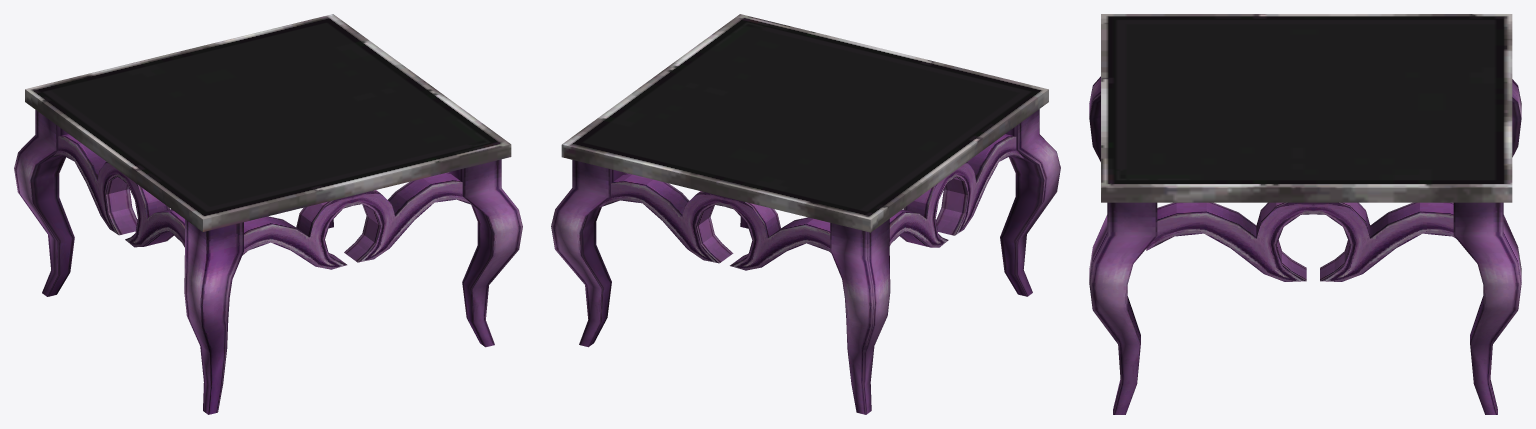
File: furni_0201211_02.FBX
3 renders of one model, left to right at view 1: azimuth 30°, elevation 25°; view 2: azimuth 150°, elevation 25°; view 3: azimuth 270°, elevation 25°, orthographic. The views are drawn at different scales.
Parts seen in each view (by area): view 1: furni_0201211_02; view 2: furni_0201211_02; view 3: furni_0201211_02.
Boxes of the visible parts, x1,y1,x2,y2 form: furni_0201211_02: [14, 14, 522, 414]; furni_0201211_02: [551, 14, 1060, 414]; furni_0201211_02: [1089, 14, 1521, 414].
Size of the model in its own units: 83.56 by 50.06 by 84.04.
